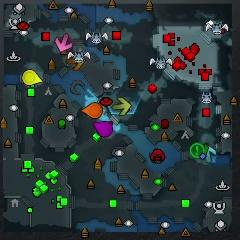Other: (190, 143, 204, 157)
p3: (93, 121, 114, 138)
p4: (22, 69, 42, 86)
p5: (82, 102, 103, 119)
x1: (56, 33, 72, 52)
x2: (113, 98, 132, 117)
x3: (202, 145, 216, 163)
x4: (196, 143, 208, 155)
x5: (66, 57, 85, 71)
